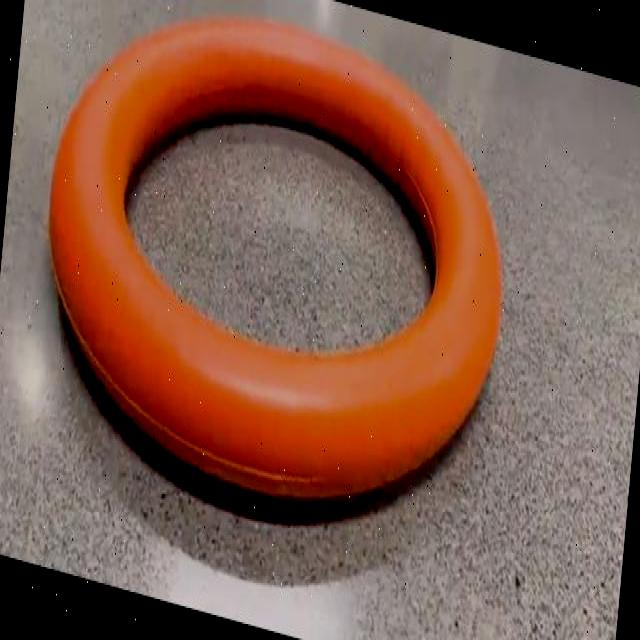note: (49, 18, 502, 497)
